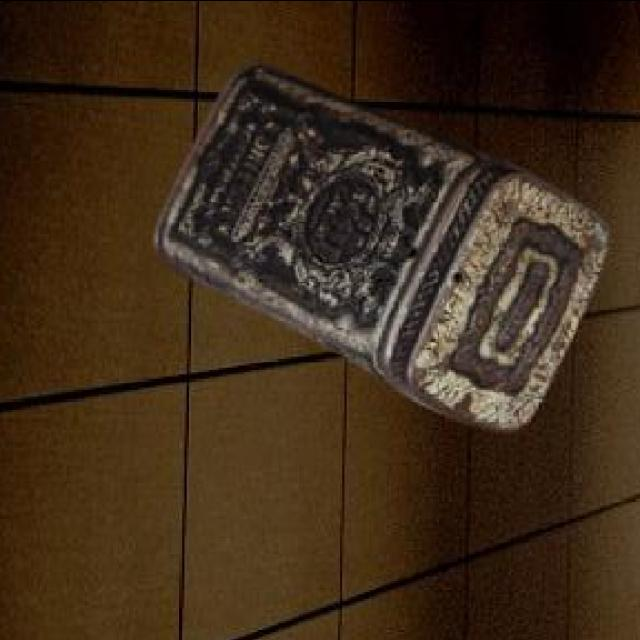logam: (159, 59, 612, 428)
